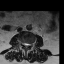CCS_normal: (25, 40, 27, 50)
LFS_normal: (29, 41, 31, 47)
LLS_normal: (27, 41, 29, 48)
RFS_normal: (22, 39, 24, 47)
RLS_normal: (24, 40, 25, 48)
